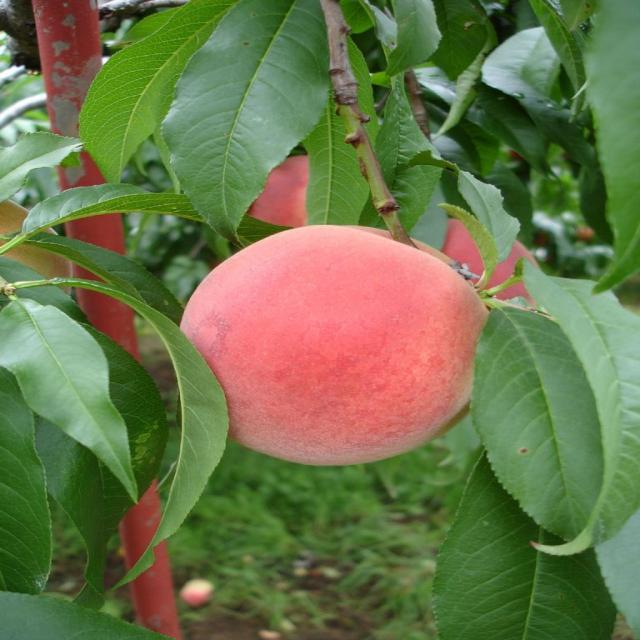Peach: (177, 223, 485, 465), (441, 219, 542, 305), (250, 153, 312, 225)
